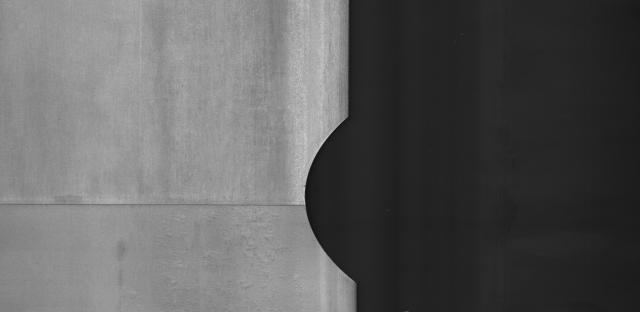welding_line: (2, 195, 317, 220)
